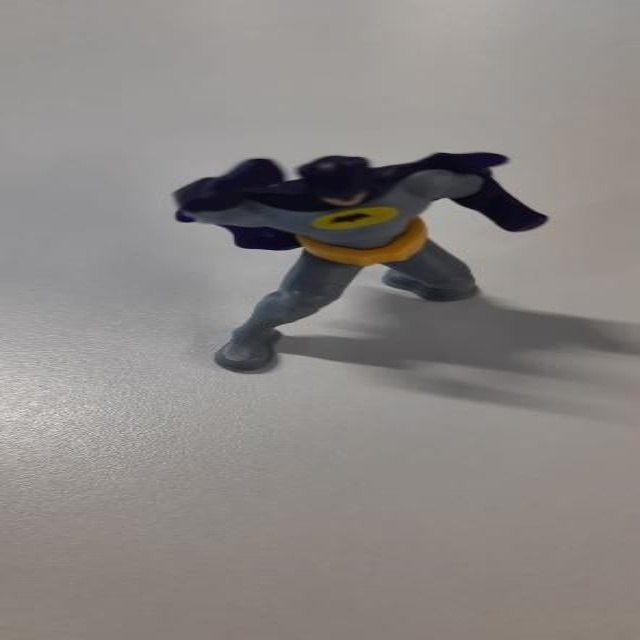Batman: (149, 137, 567, 407)
